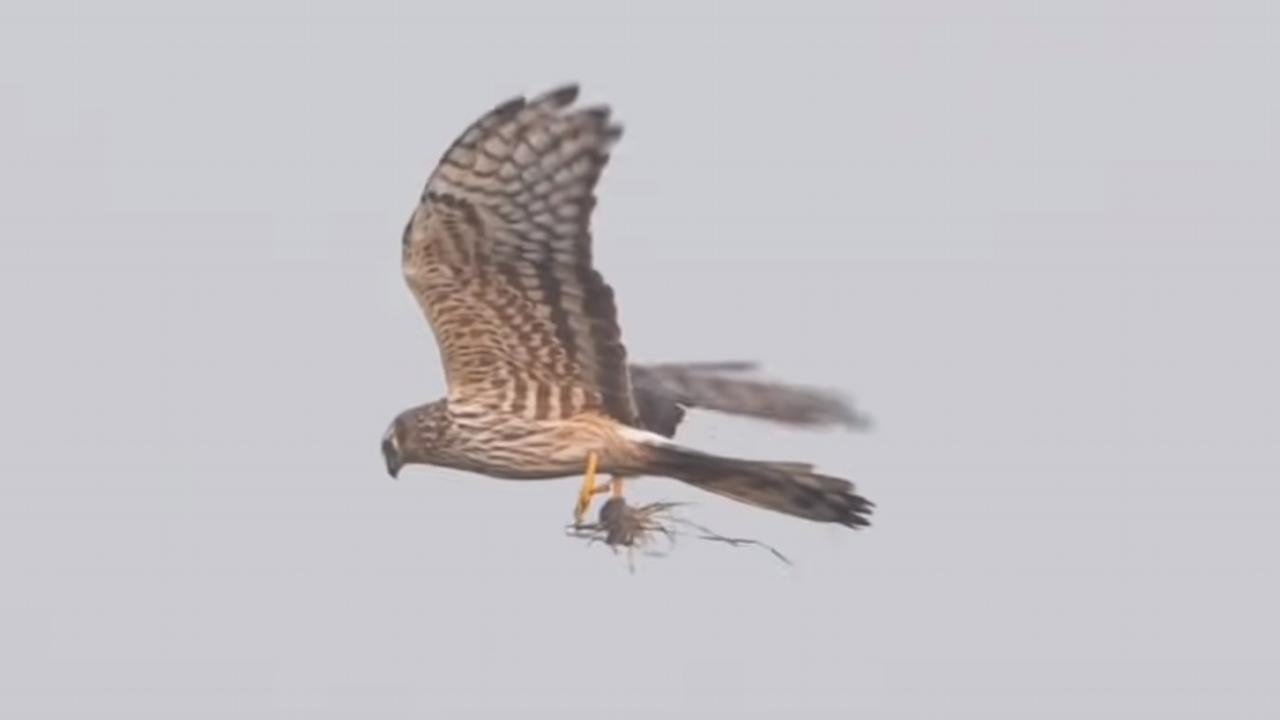Bird: (374, 77, 886, 554)
